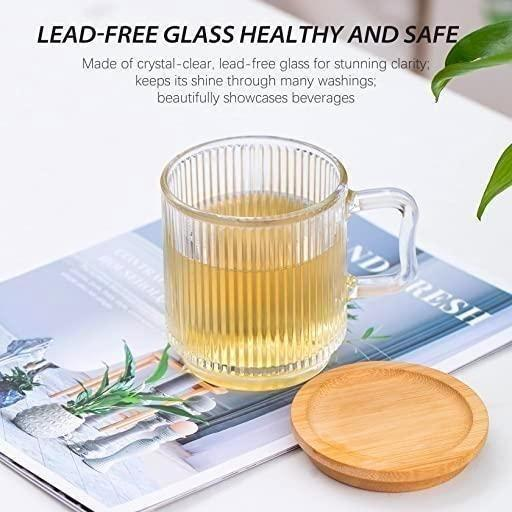glass-mug: (150, 129, 422, 399)
